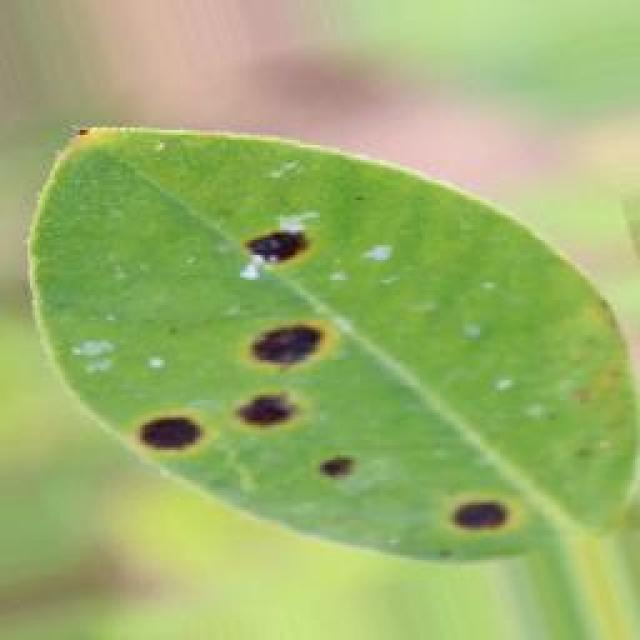Sigatoka: (225, 318, 346, 437), (227, 209, 331, 303), (428, 468, 512, 543), (130, 396, 214, 468), (283, 444, 384, 501)
